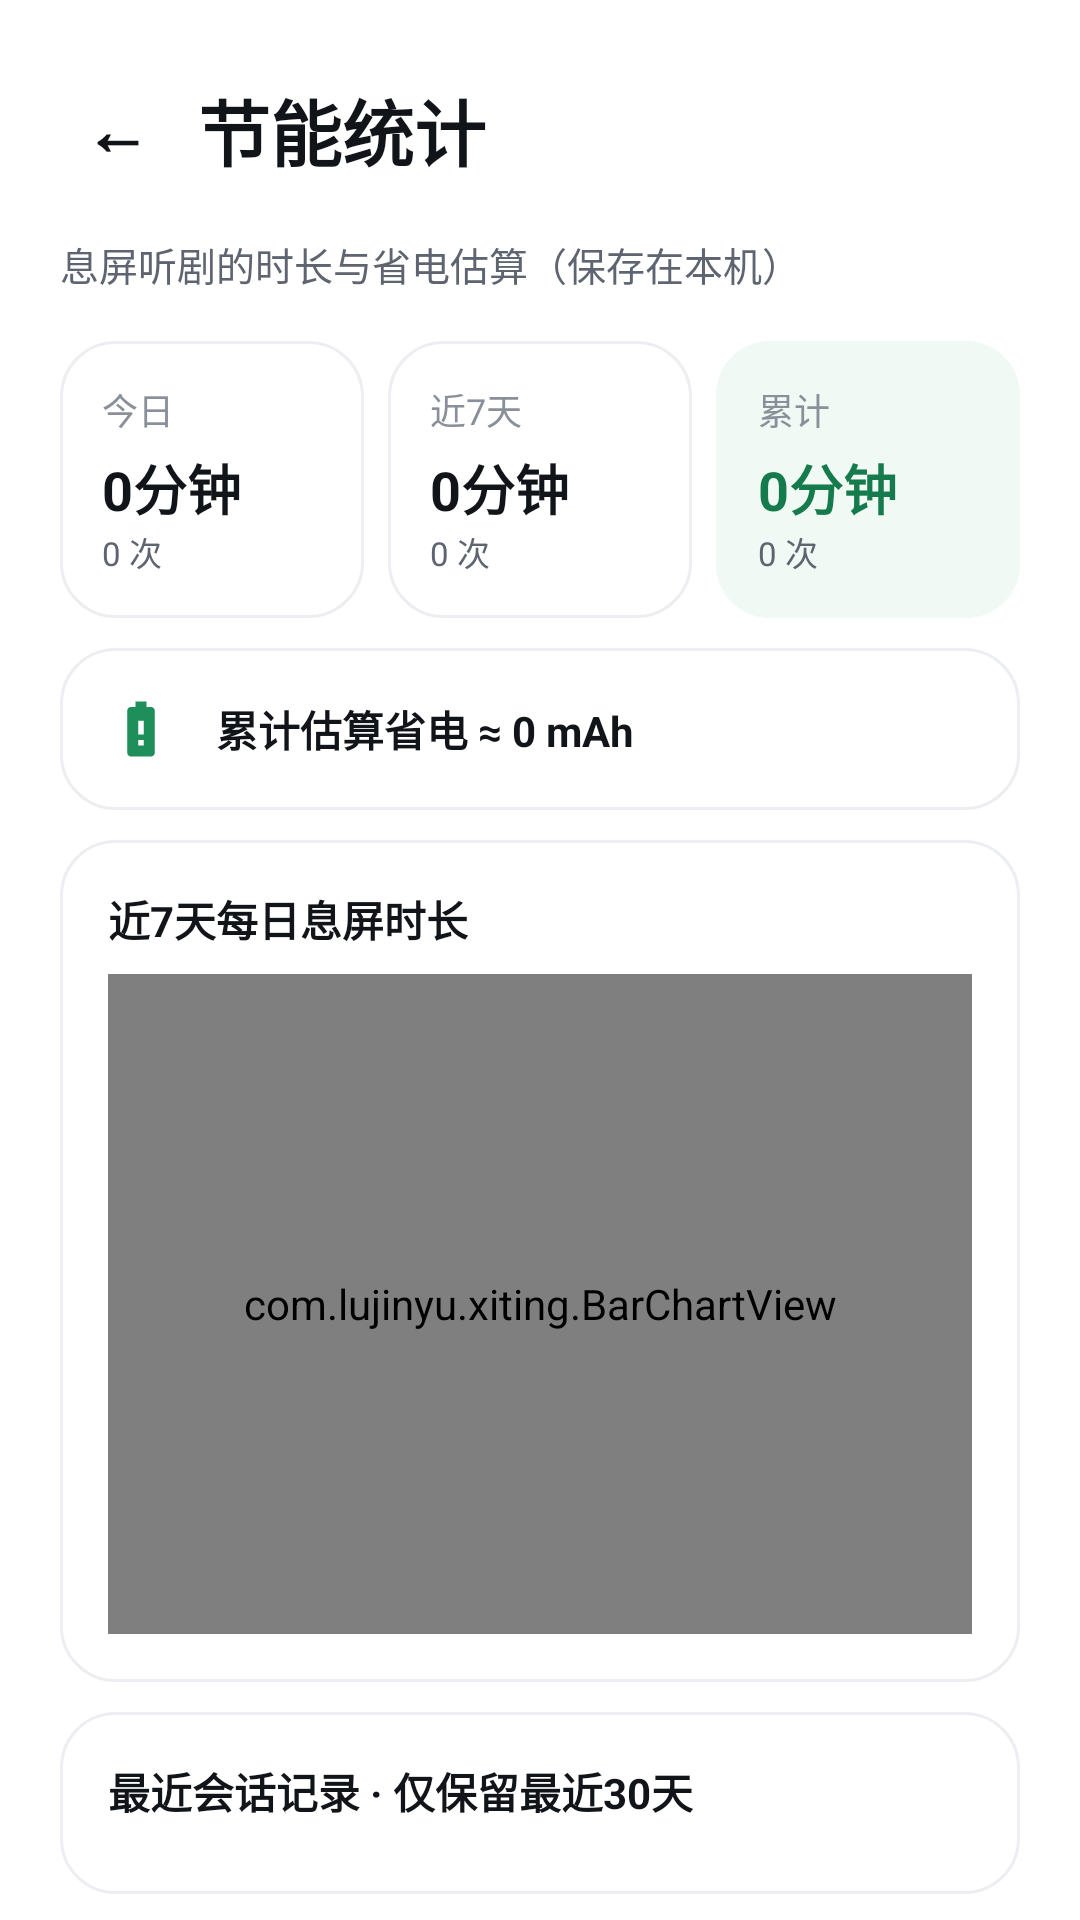

Icon click points for this 1080 × 1920 phone screenshot, format (x,y):
row battery: (141,729)
